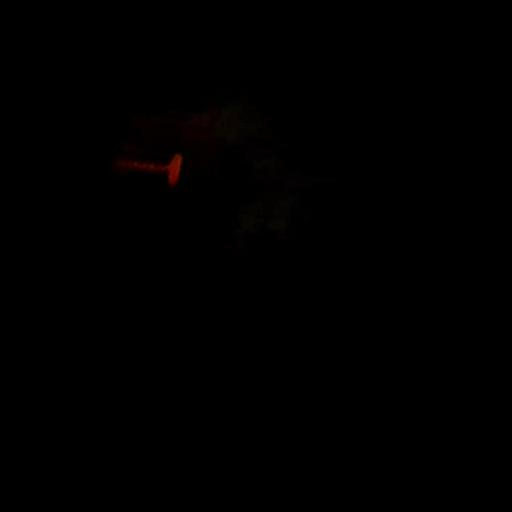mallet: (117, 153, 183, 185)
